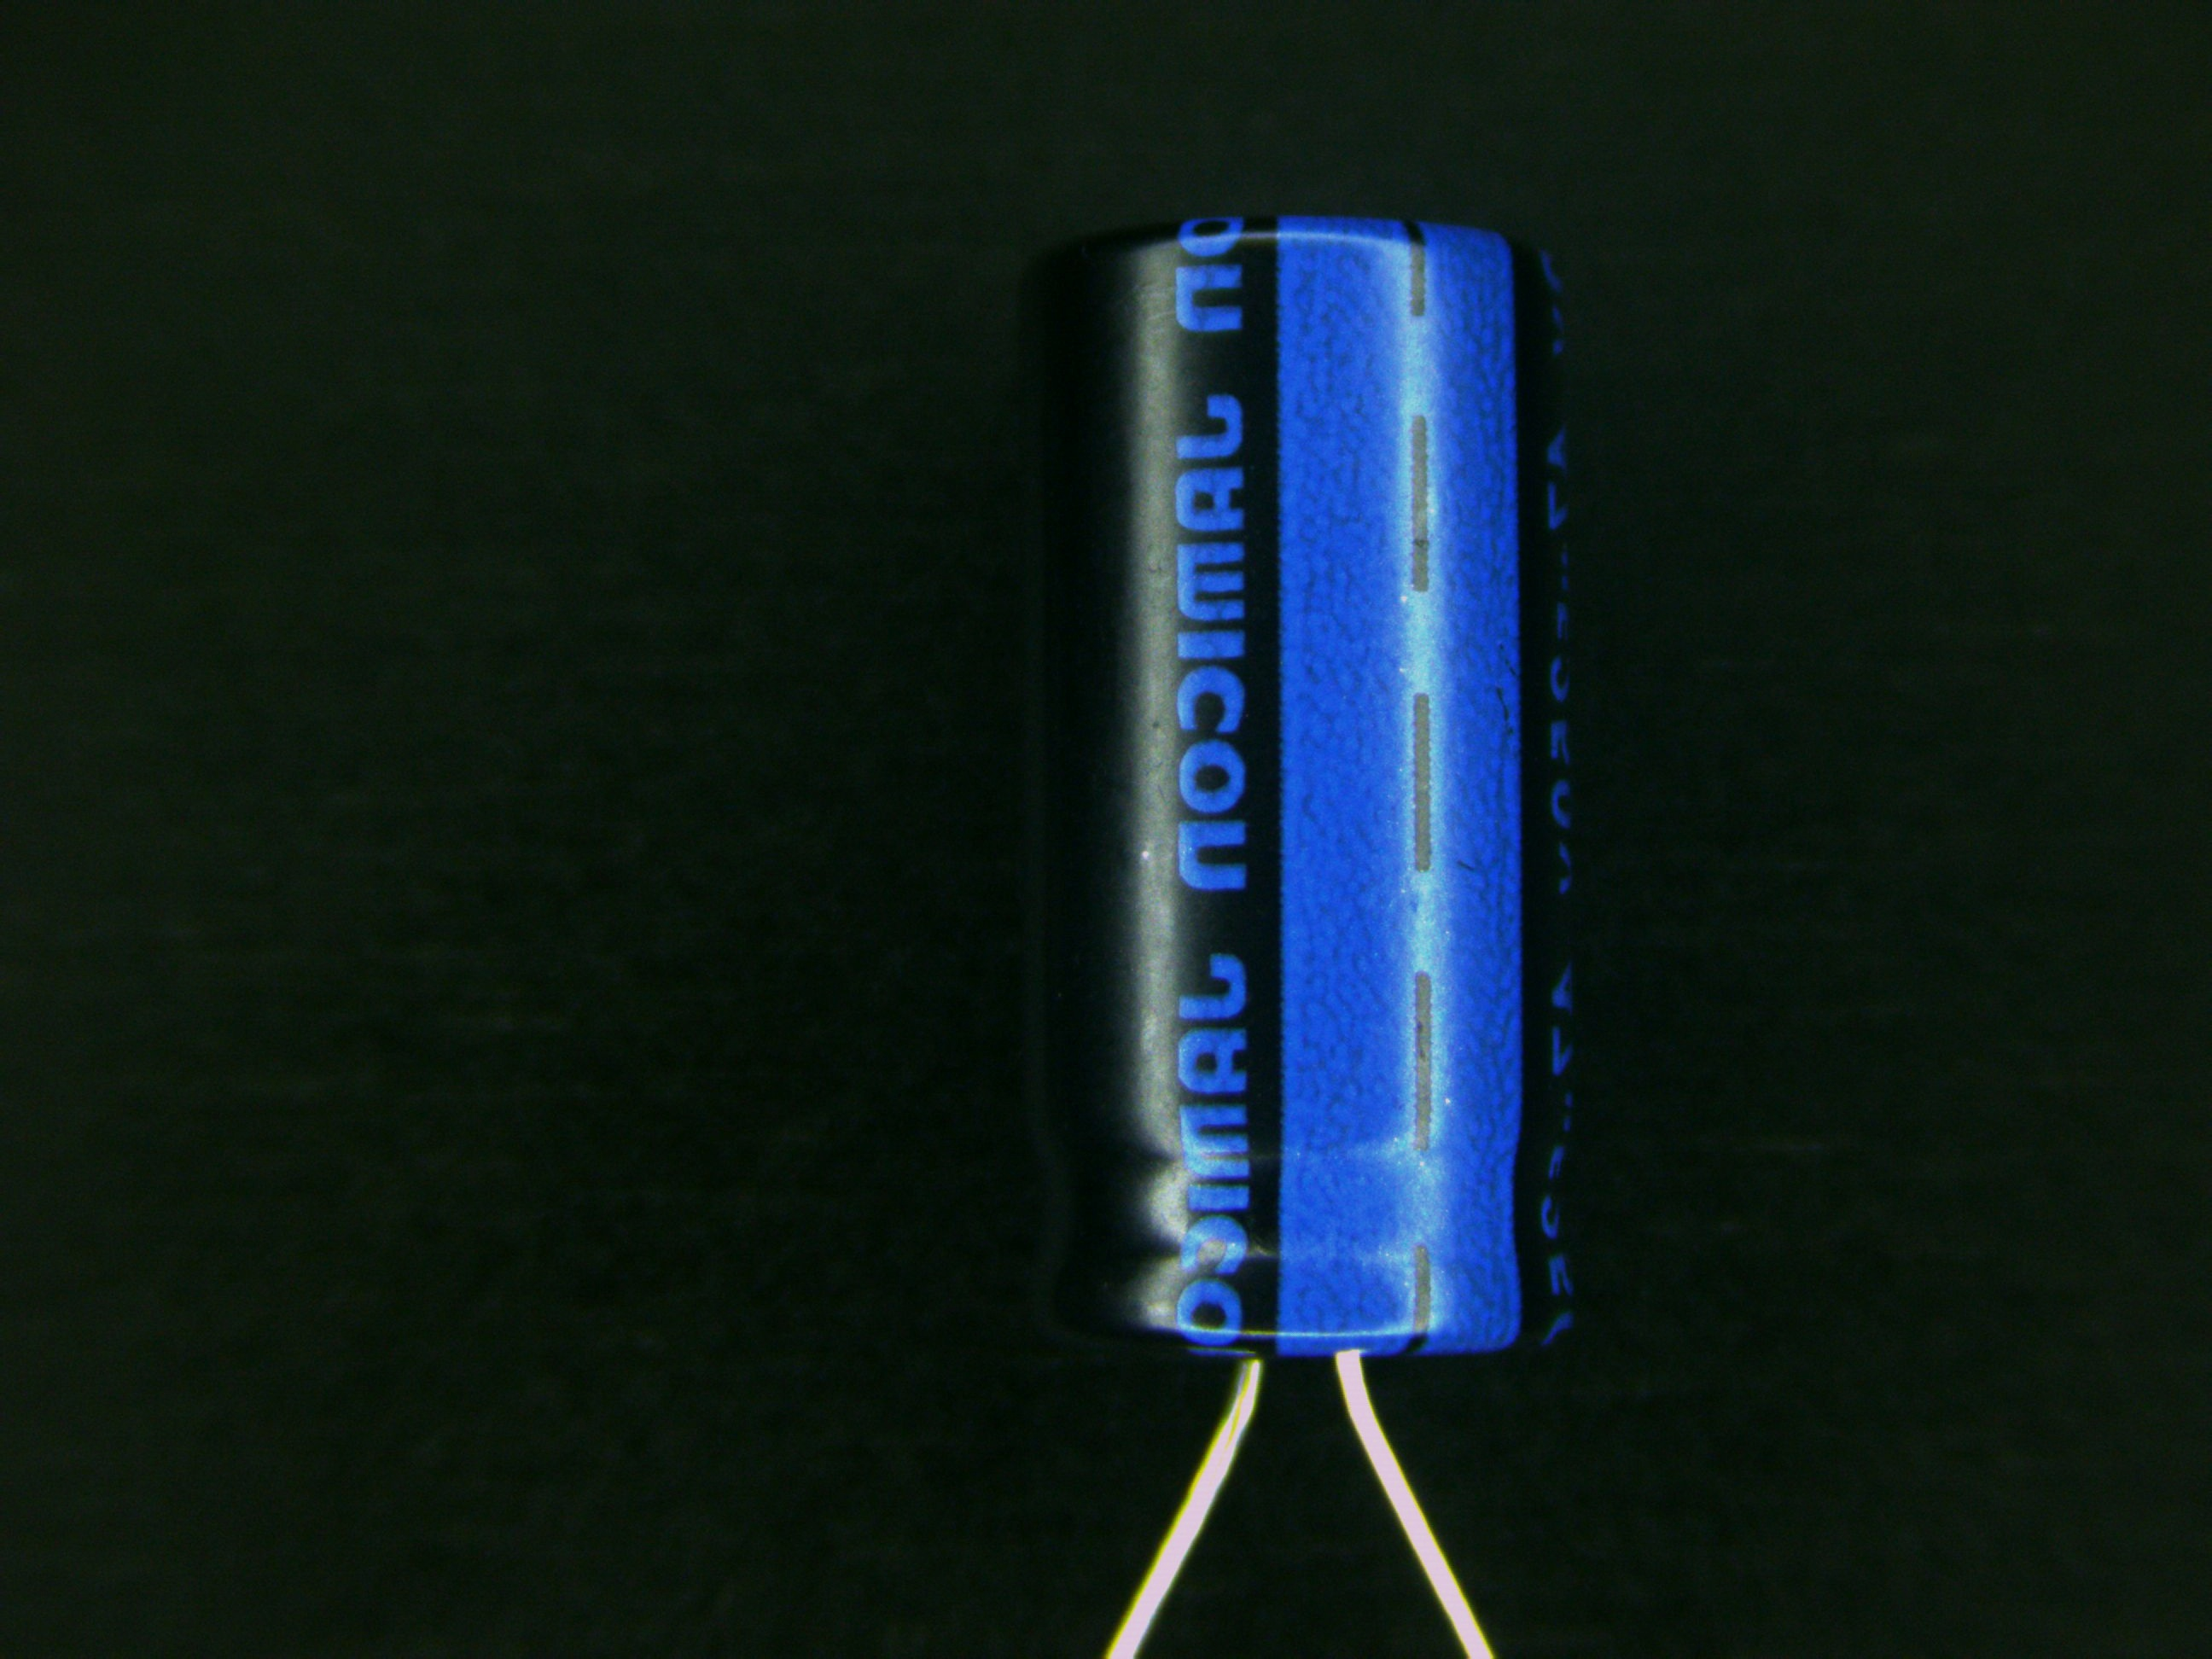c2: (1017, 209, 1583, 1478)
